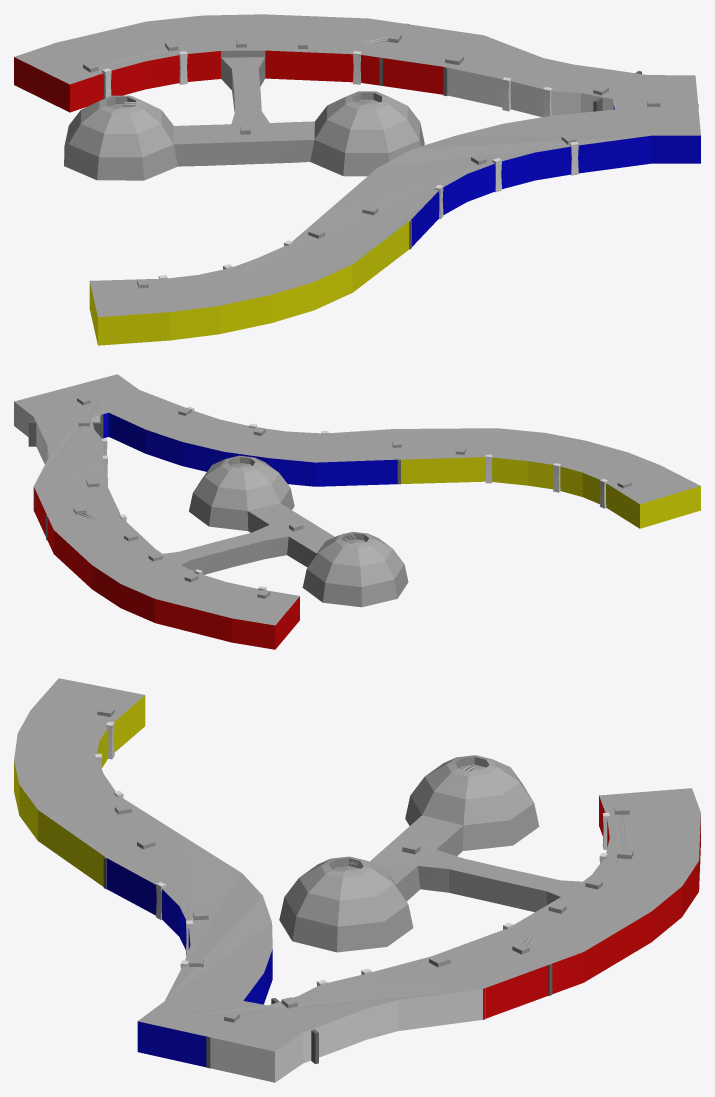
The model's file is complexo_interior_v3.fbx.
The picture shows the model from 3 angles, top to bottom: view 1: azimuth 30°, elevation 25°; view 2: azimuth 150°, elevation 25°; view 3: azimuth 270°, elevation 25°; orthographic projection. The views are drawn at different scales.
Visible parts, largest first — view 1: polySurface15; view 2: polySurface15; view 3: polySurface15.
Part boxes in pixels (x1=…): polySurface15: x1=14, y1=14, x2=700, y2=345; polySurface15: x1=14, y1=374, x2=700, y2=649; polySurface15: x1=14, y1=678, x2=700, y2=1082.
Bounding box in the file's own units: 104 × 7.72 × 81.09.
